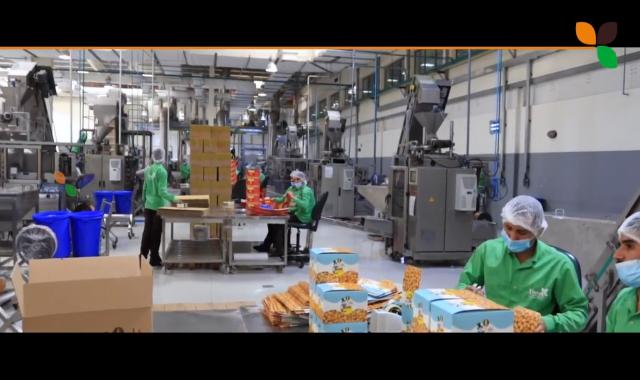hairnet: (502, 191, 546, 241), (616, 209, 640, 279), (150, 146, 164, 166), (292, 169, 307, 187)
